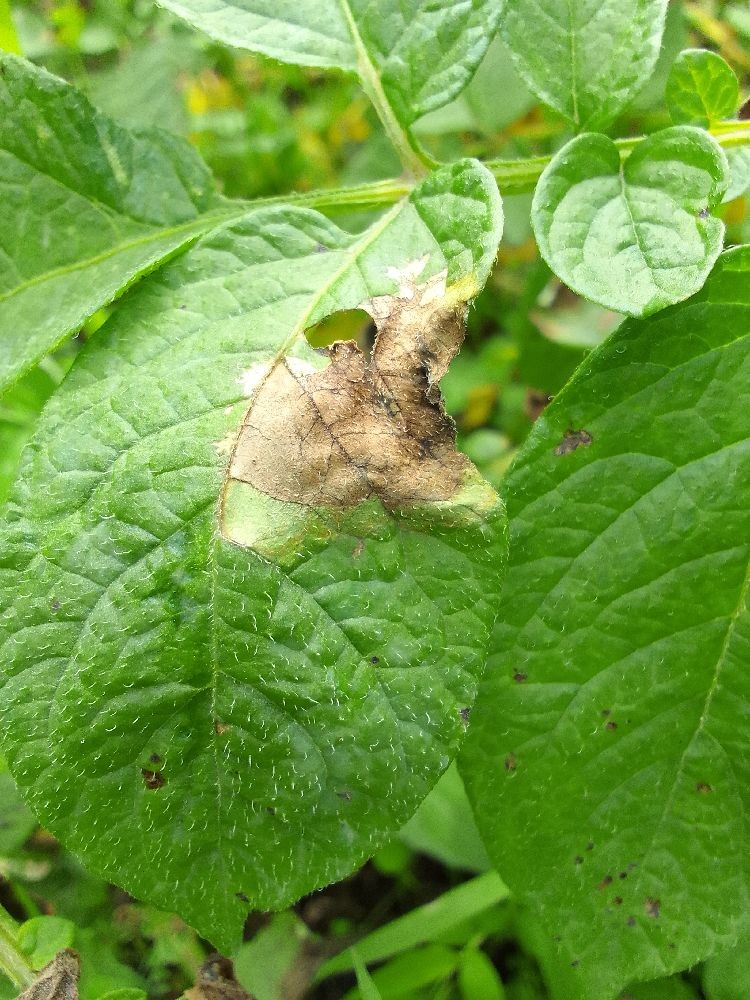late_blight: (263, 283, 498, 528), (265, 853, 421, 1000), (144, 937, 268, 1000), (14, 941, 89, 1000)
